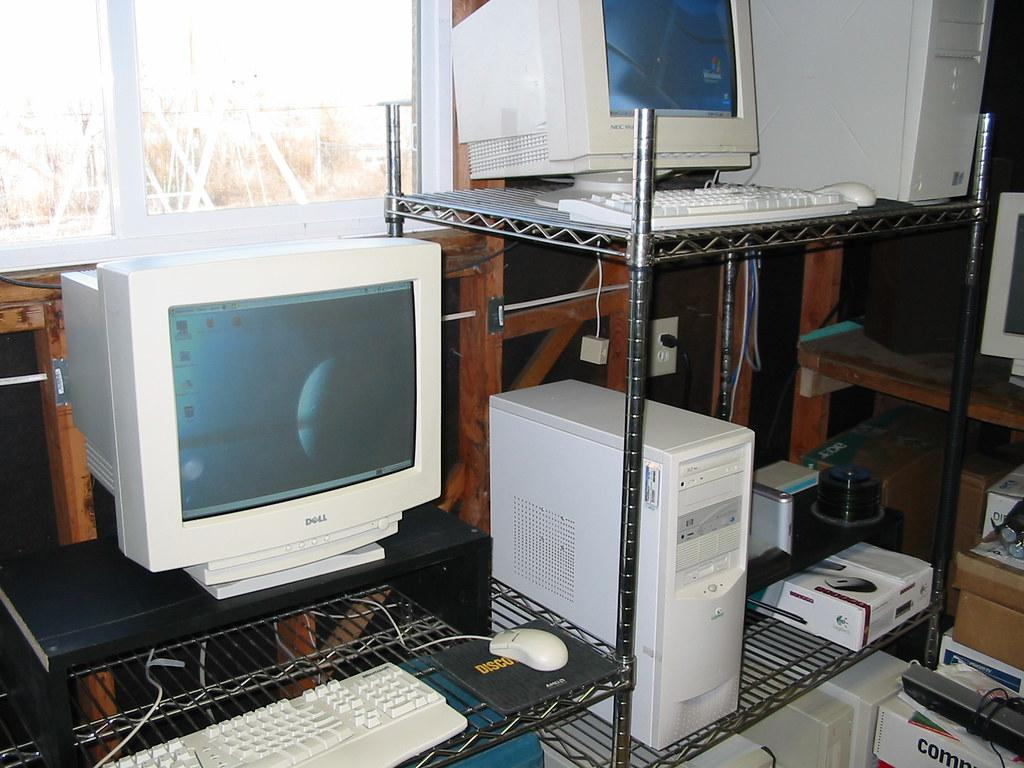computer: (60, 236, 444, 601), (488, 378, 756, 750), (450, 1, 759, 206), (749, 1, 994, 206)
